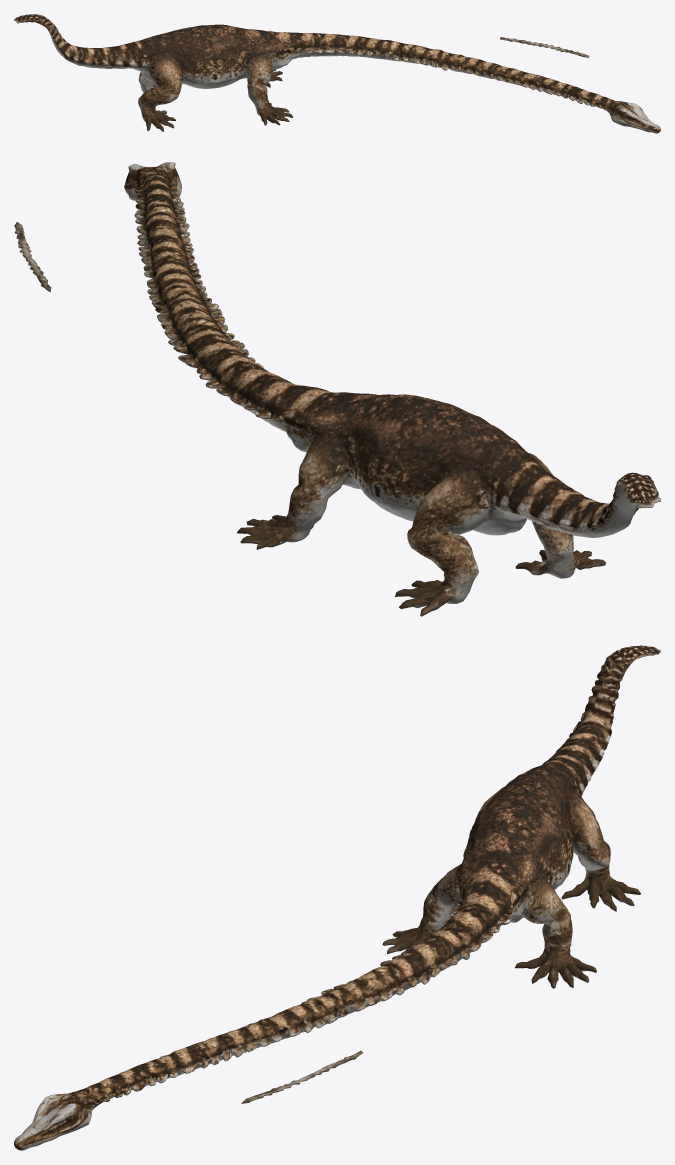
File: tanystropheus.raw.glb
3 views of the same model, one above another, from view 1: azimuth 30°, elevation 25°; view 2: azimuth 150°, elevation 25°; view 3: azimuth 270°, elevation 25° (orthographic). The views are drawn at different scales.
Visible parts, largest first — view 1: tripo_node_aa7cb744-2664-426b-9e1e-a21ff6e96ec8; view 2: tripo_node_aa7cb744-2664-426b-9e1e-a21ff6e96ec8; view 3: tripo_node_aa7cb744-2664-426b-9e1e-a21ff6e96ec8.
Boxes of the visible parts, x1,y1,x2,y2 form: tripo_node_aa7cb744-2664-426b-9e1e-a21ff6e96ec8: (14,14,660,133); tripo_node_aa7cb744-2664-426b-9e1e-a21ff6e96ec8: (14,162,660,616); tripo_node_aa7cb744-2664-426b-9e1e-a21ff6e96ec8: (14,645,660,1150).
Size of the model in its own units: 1 by 0.2035 by 0.7417.
Materials: 1 (1 with a texture image).
